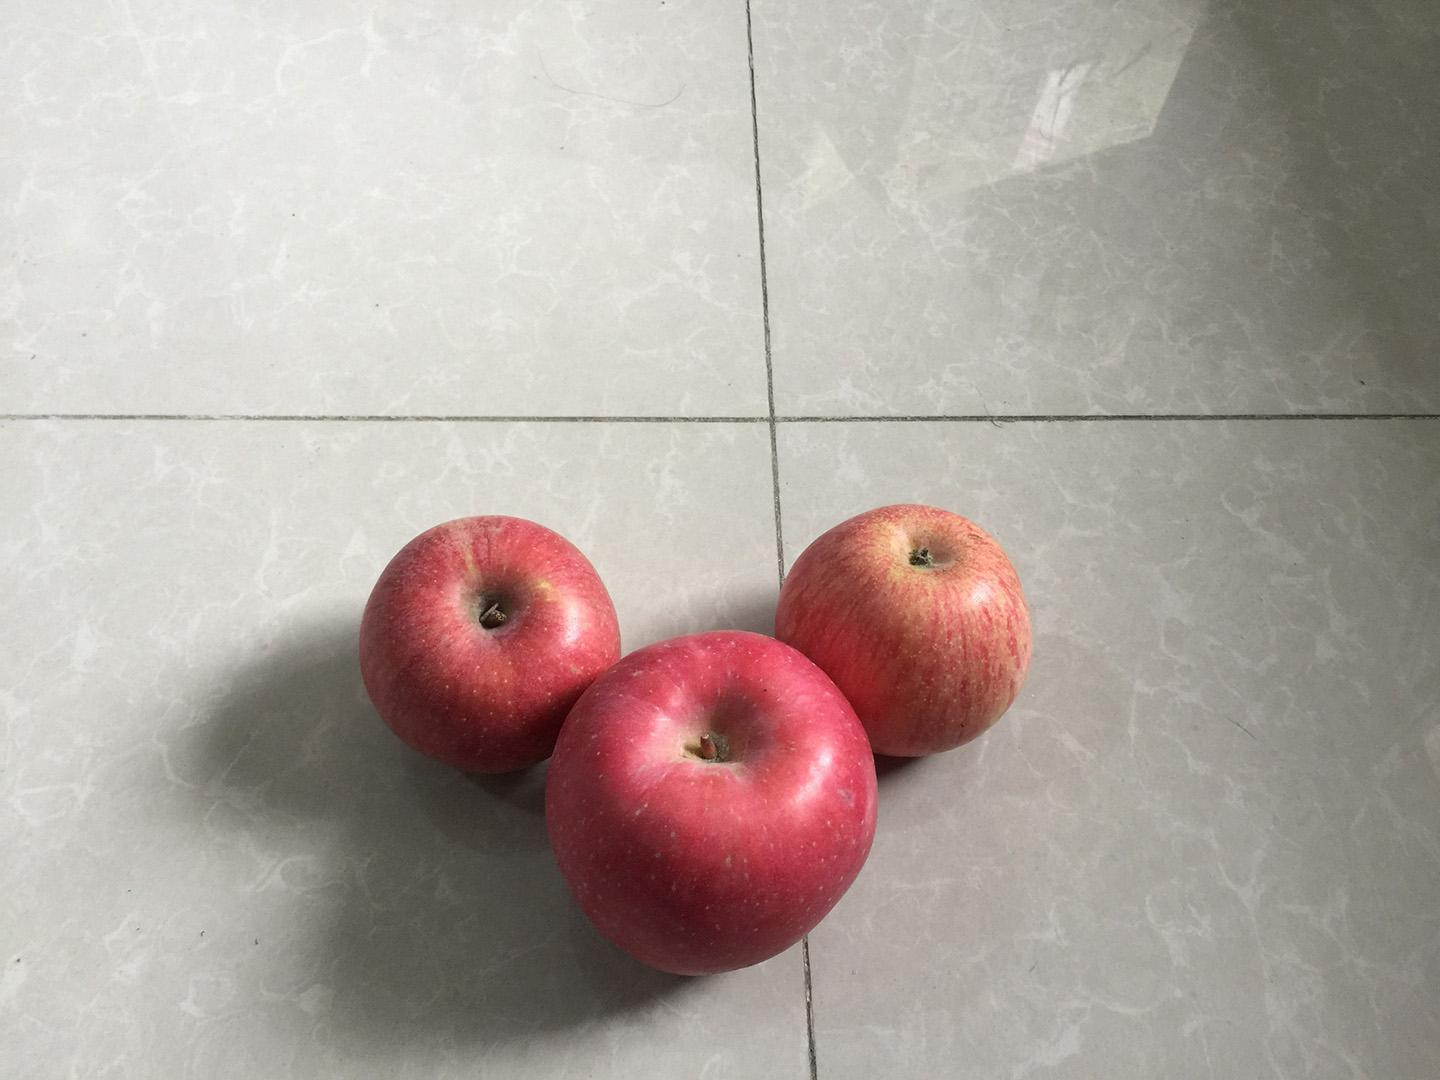apple: (540, 623, 884, 981), (354, 511, 627, 781), (768, 498, 1037, 763)
